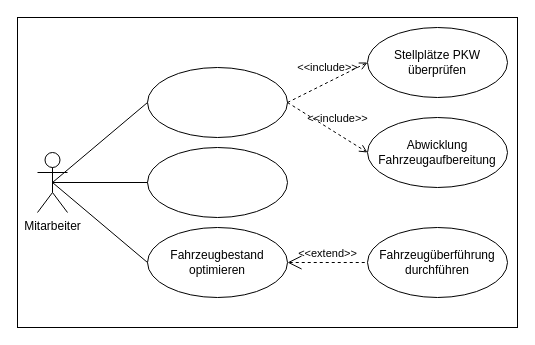
Some shapes in this 535 by 345 pixel diagram are drawn without their labels. The shapes that lost their labels are listed below. From the top down, each one's centre as x and y in pixels, then its label:
At point (217, 102): "Mietstation Stammdaten pflegen".
At point (217, 182): "Fahrzeugbestand überwachen".
